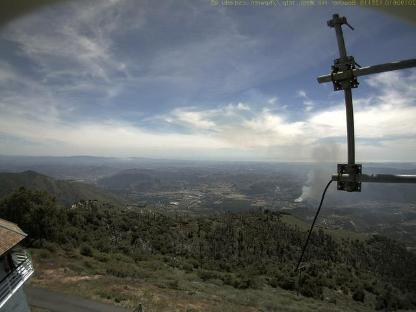smoke: (292, 139, 336, 203)
